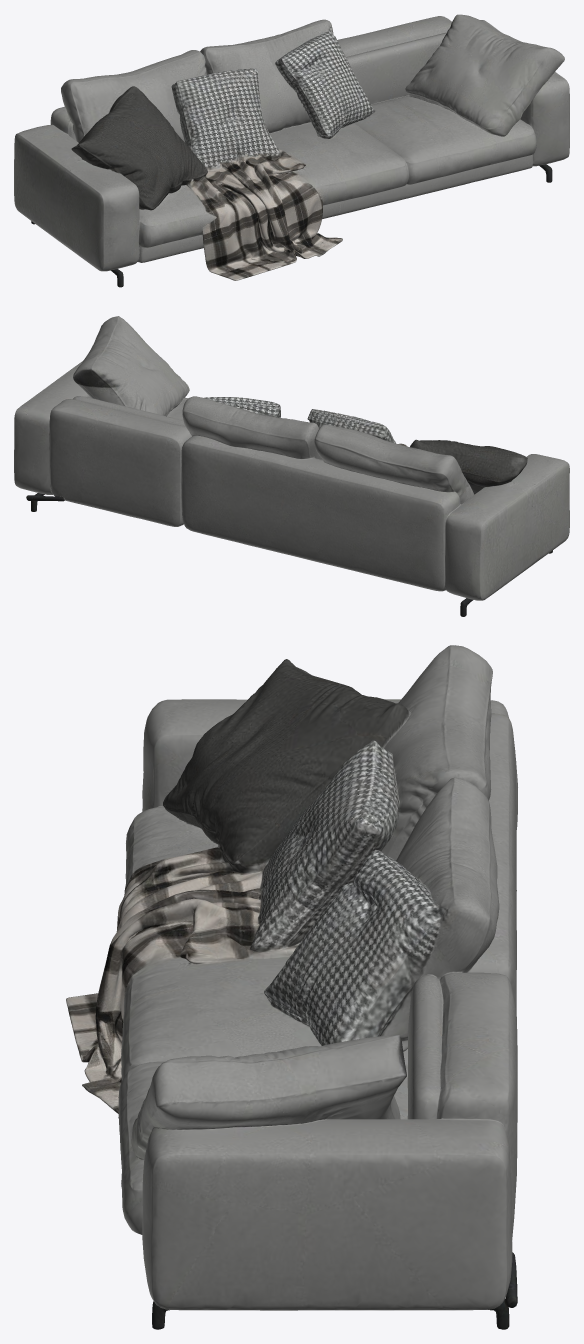
Rendered from sofa.glb.
3 renders of one model, top to bottom at view 1: azimuth 30°, elevation 25°; view 2: azimuth 150°, elevation 25°; view 3: azimuth 270°, elevation 25°, orthographic. The views are drawn at different scales.
Bounding box in the file's own units: 1.9 × 0.559 × 0.7862.
Materials: 1 (1 with a texture image).
